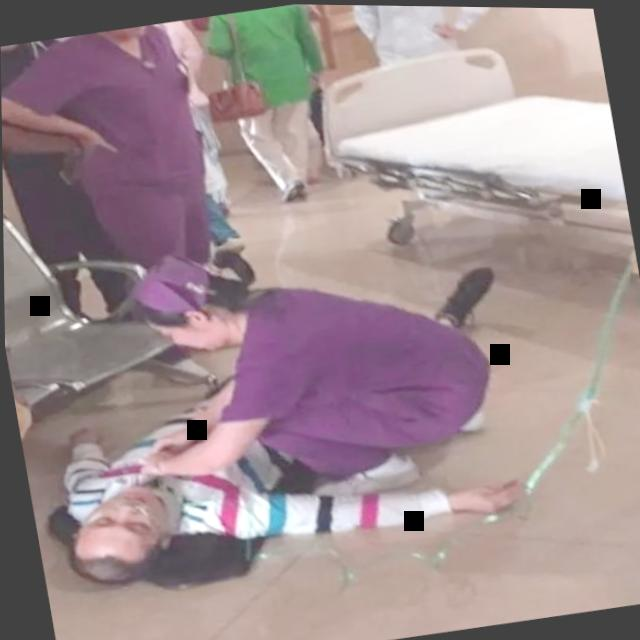Fall-Detected: (9, 297, 573, 613)
